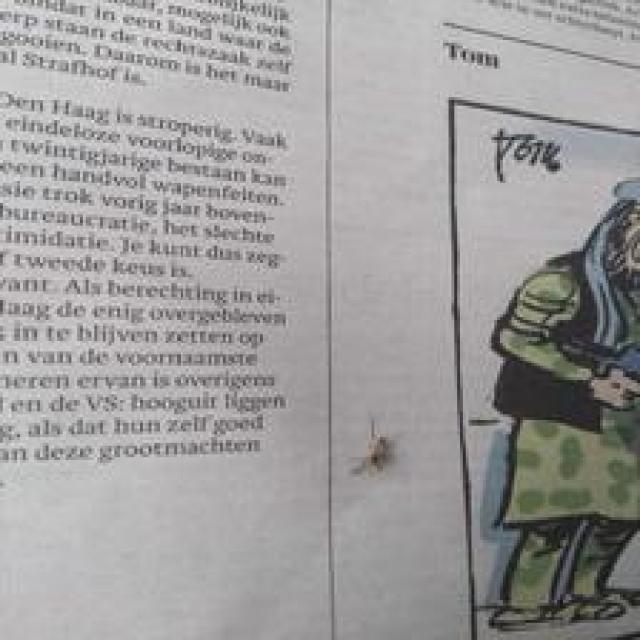Culex: (485, 172, 640, 638)
